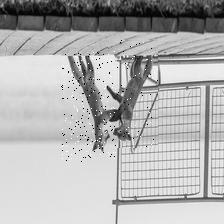fox: (61, 51, 116, 161), (107, 39, 157, 147)
